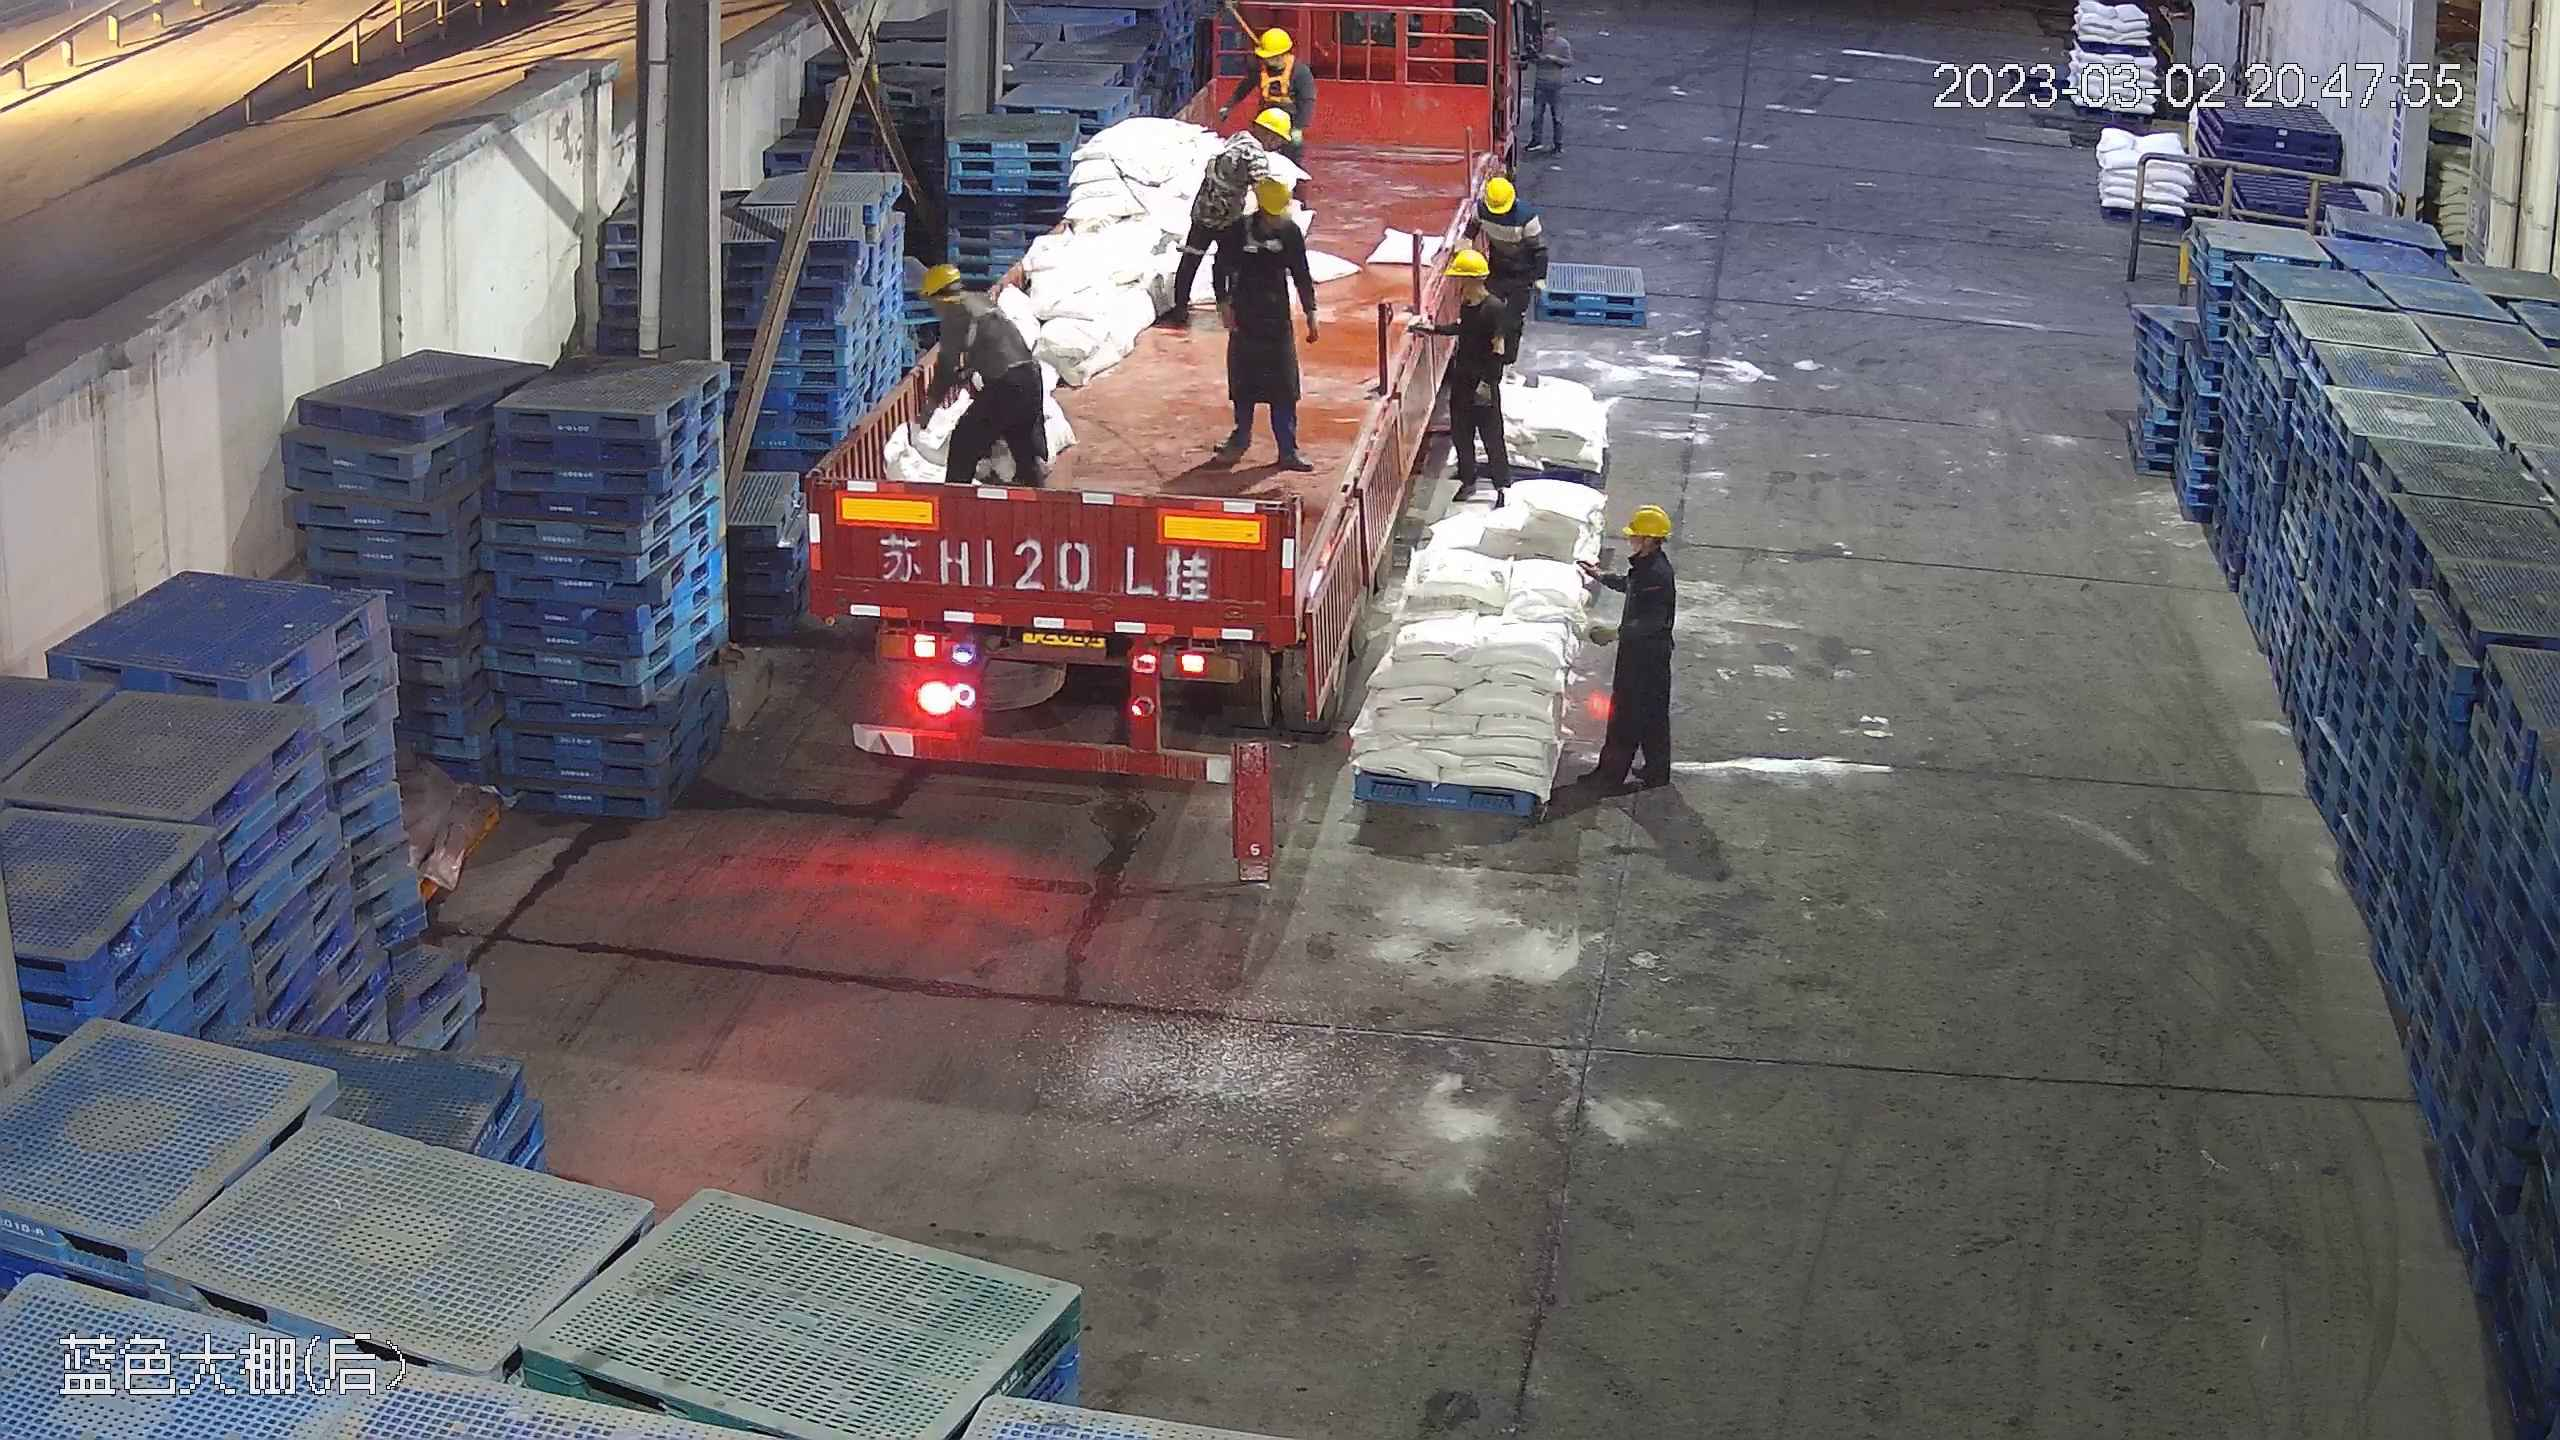belt: (1199, 130, 1264, 199), (1227, 200, 1298, 263), (958, 289, 1007, 354), (1248, 66, 1301, 117)
head: (1208, 154, 1306, 239), (918, 263, 1009, 353), (1439, 242, 1518, 341), (1612, 502, 1677, 601), (1465, 170, 1543, 245), (1240, 24, 1311, 94), (1534, 18, 1572, 62)
helmet: (1249, 171, 1294, 218), (918, 263, 963, 304), (1621, 502, 1670, 538), (1442, 245, 1490, 280), (1250, 103, 1293, 138), (1483, 170, 1516, 211), (1255, 25, 1293, 57)
people: (1174, 153, 1322, 470), (907, 259, 1060, 498), (1587, 497, 1683, 798), (1461, 165, 1548, 419), (1436, 245, 1516, 508), (1531, 20, 1573, 154)
truck: (801, 16, 1506, 782)
